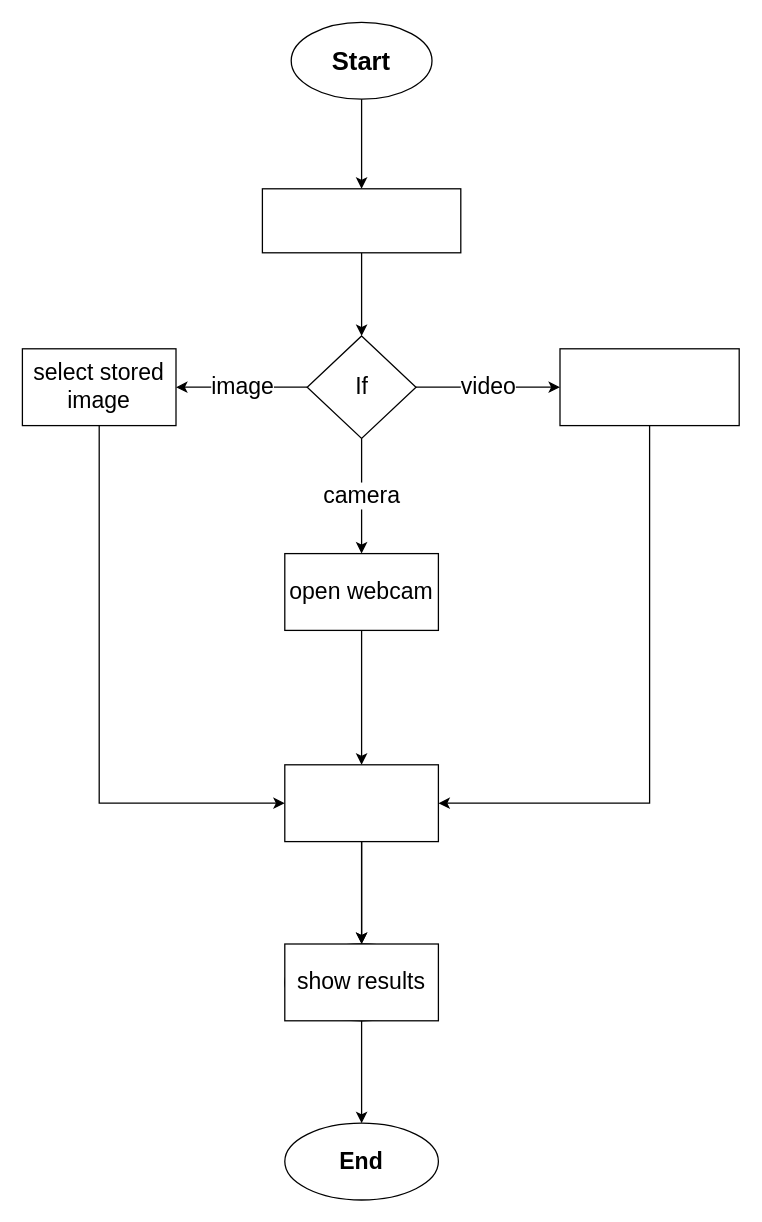
This 762x1222 diagram has some shape labels left out. The shapes that lost their labels are listed below. From the top down, each one's centre as x and y in pixels, then its label:
At [361,220]: "Choose Option".
At [649,387]: "select stored video".
At [361,803]: "trained model".
